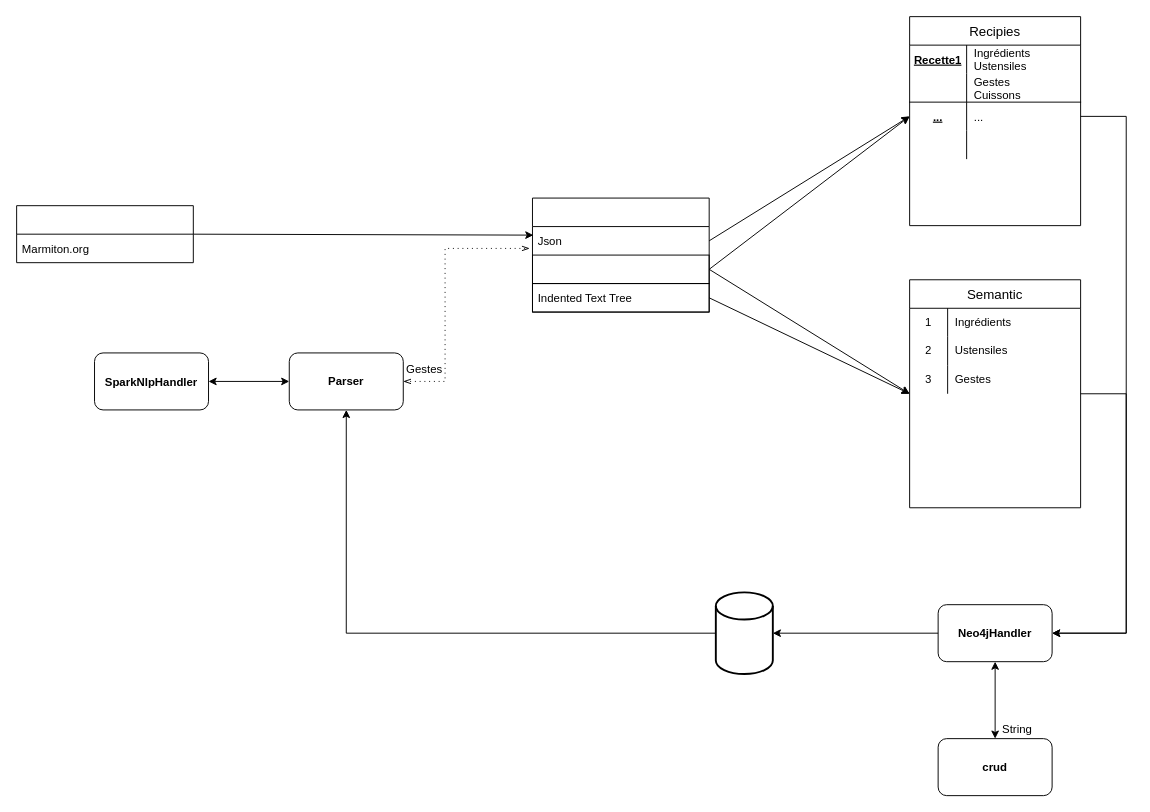
Image size: 1150x812. Some labels were removed from this diagram. Each missing label, with the box of its shape:
Command Line: (532, 254, 709, 284)
Interpreter: (532, 197, 709, 312)
Neo4J: (714, 591, 773, 674)
Scraper: (16, 205, 193, 263)
